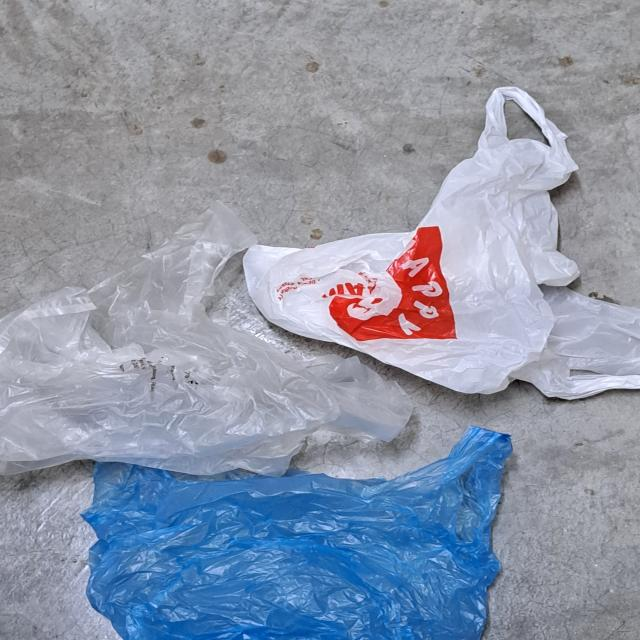plastic bag: (240, 89, 640, 400), (0, 208, 414, 476), (82, 431, 517, 640)
